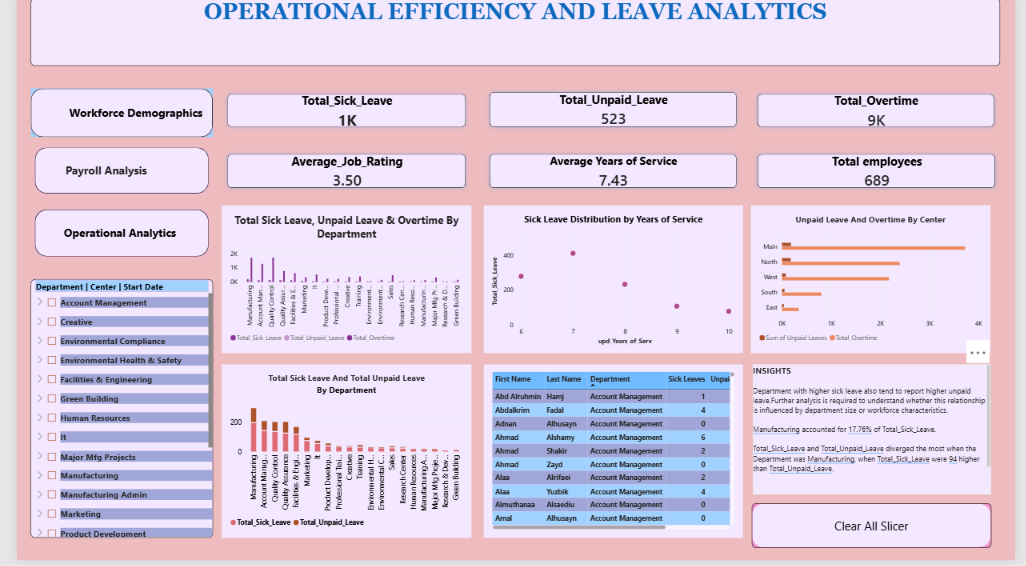

Layout of this report page (visuals, bound fields, positions):
{"tool":"powerbi","page":{"name":"Operational Efficiency And Leave Analytics","canvas":[1920,1080],"ordinal":2},"visuals":[{"type":"cardVisual","fields":{"Data":["Employees.Total_Overtime"]},"box":[1412.9,173.2,477.9,85.6],"z":0},{"type":"cardVisual","fields":{"Data":["Employees.Total_Sick_Leave"]},"box":[394.4,173.2,480,85.6],"z":1000},{"type":"lineStackedColumnComboChart","title":"Total Sick Leave And Total Unpaid Leave","fields":{"Category":["Employees.Department"],"Y":["Employees.Total_Sick_Leave","Employees.Total_Unpaid_Leave"]},"box":[394.4,703.3,480,333.9],"z":2000},{"type":"clusteredBarChart","title":"Unpaid Leave And Overtime By Center","fields":{"Category":["Employees.Center"],"Y":["Sum(Employees.Unpaid Leaves)","Employees.Total_Overtime"]},"box":[1412.5,398.2,460.7,283.9],"z":3000},{"type":"scatterChart","title":"Sick Leave Distribution by Years of Service","fields":{"X":["Employees.upd_Years_of_Serv"],"Y":["Employees.Total_Sick_Leave"]},"box":[897.4,398.6,498.8,283.8],"z":4000},{"type":"slicer","fields":{"Values":["Employees.Department","Employees.Center","Employees.Start Date"]},"box":[27.1,540.5,350.6,496.7],"z":5000},{"type":"clusteredColumnChart","title":"Total Sick Leave, Unpaid Leave & Overtime By Department","fields":{"Category":["Employees.Department"],"Y":["Employees.Total_Sick_Leave","Employees.Total_Unpaid_Leave","Employees.Total_Overtime"]},"box":[394.4,398.6,480,283.8],"z":6000},{"type":"tableEx","title":"Employees Detail","fields":{"Values":["Employees.First Name","Employees.Last Name","Employees.Department","Employees.Sick Leaves","Employees.Unpaid Leaves","Employees.Overtime Hours"]},"box":[897.4,703.3,498.8,333.9],"z":7000},{"type":"textbox","box":[27.1,0,1863.7,129.4],"z":8000},{"type":"cardVisual","fields":{"Data":["Employees.Total_Unpaid_Leave"]},"box":[897.9,168.8,497.9,89.6],"z":9000},{"type":"cardVisual","fields":{"Data":["Employees.Average_Job_Rating"]},"box":[394.4,288,480,87.7],"z":10000},{"type":"cardVisual","fields":{"Data":["Employees.Average_upd_Service"]},"box":[897.9,287.5,497.9,87.5],"z":11000},{"type":"cardVisual","fields":{"Data":["Employees.Total employees"]},"box":[1412.5,287.5,479.2,87.5],"z":12000},{"type":"textbox","box":[1414.6,704.2,458.3,250],"z":13000},{"type":"actionButton","box":[27.1,172.9,350,93.8],"z":14000},{"type":"actionButton","box":[27.1,279.2,350,104.2],"z":15000},{"type":"actionButton","box":[27.1,397.9,350,106.2],"z":16000},{"type":"actionButton","box":[1412.5,970.8,460.4,85.4],"z":16002}]}

Visuals, with their boxes in screenshot pixels (x1, y1, x2, y2), scaled from the page's 1920x1080 canvas onto the 1026x566 screenshot:
cardVisual - Employees.Total_Overtime: {"x1": 755, "y1": 91, "x2": 1010, "y2": 136}
cardVisual - Employees.Total_Sick_Leave: {"x1": 211, "y1": 91, "x2": 467, "y2": 136}
"Total Sick Leave And Total Unpaid Leave" lineStackedColumnComboChart: {"x1": 211, "y1": 369, "x2": 467, "y2": 544}
"Unpaid Leave And Overtime By Center" clusteredBarChart: {"x1": 755, "y1": 209, "x2": 1001, "y2": 357}
"Sick Leave Distribution by Years of Service" scatterChart: {"x1": 480, "y1": 209, "x2": 746, "y2": 358}
slicer - Employees.Department x Employees.Center: {"x1": 14, "y1": 283, "x2": 202, "y2": 544}
"Total Sick Leave, Unpaid Leave & Overtime By Department" clusteredColumnChart: {"x1": 211, "y1": 209, "x2": 467, "y2": 358}
"Employees Detail" tableEx: {"x1": 480, "y1": 369, "x2": 746, "y2": 544}
textbox: {"x1": 14, "y1": 0, "x2": 1010, "y2": 68}
cardVisual - Employees.Total_Unpaid_Leave: {"x1": 480, "y1": 88, "x2": 746, "y2": 135}
cardVisual - Employees.Average_Job_Rating: {"x1": 211, "y1": 151, "x2": 467, "y2": 197}
cardVisual - Employees.Average_upd_Service: {"x1": 480, "y1": 151, "x2": 746, "y2": 197}
cardVisual - Employees.Total employees: {"x1": 755, "y1": 151, "x2": 1011, "y2": 197}
textbox: {"x1": 756, "y1": 369, "x2": 1001, "y2": 500}
actionButton: {"x1": 14, "y1": 91, "x2": 202, "y2": 140}
actionButton: {"x1": 14, "y1": 146, "x2": 202, "y2": 201}
actionButton: {"x1": 14, "y1": 209, "x2": 202, "y2": 264}
actionButton: {"x1": 755, "y1": 509, "x2": 1001, "y2": 554}
